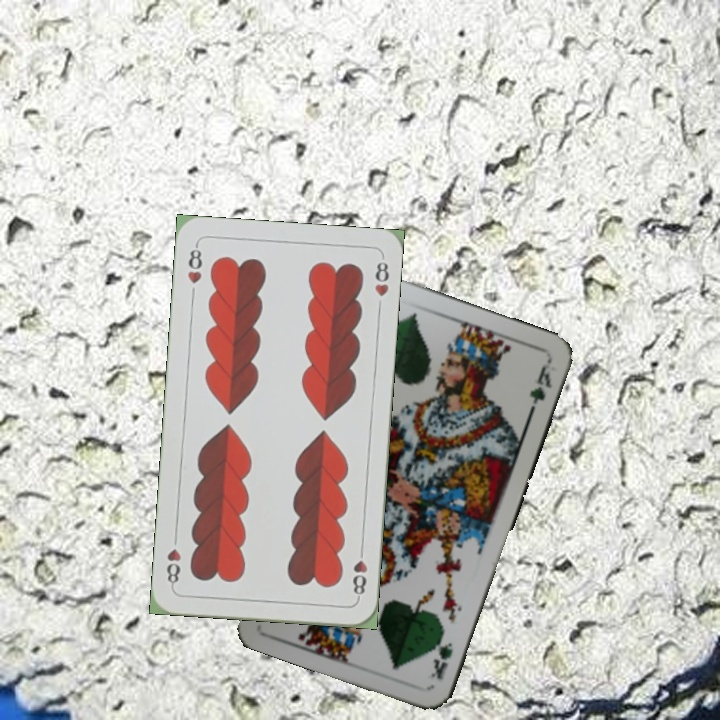GK: (426, 627, 456, 682)
H8: (348, 543, 370, 602), (183, 240, 205, 287)
